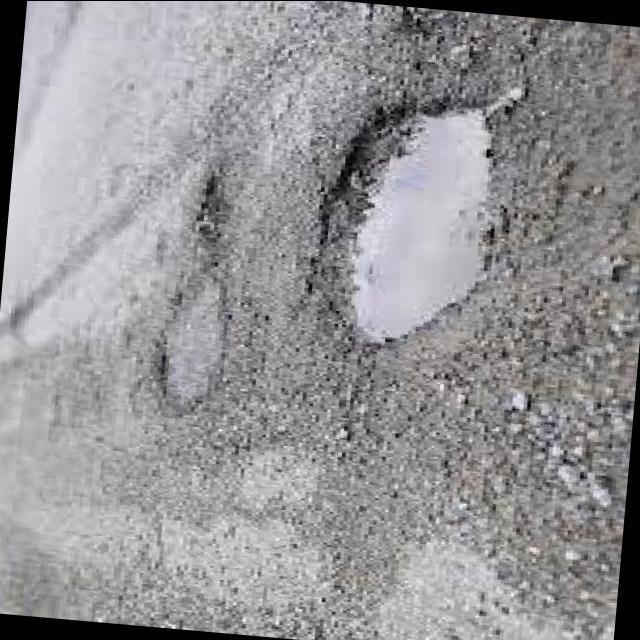pothole: (317, 99, 494, 342)
